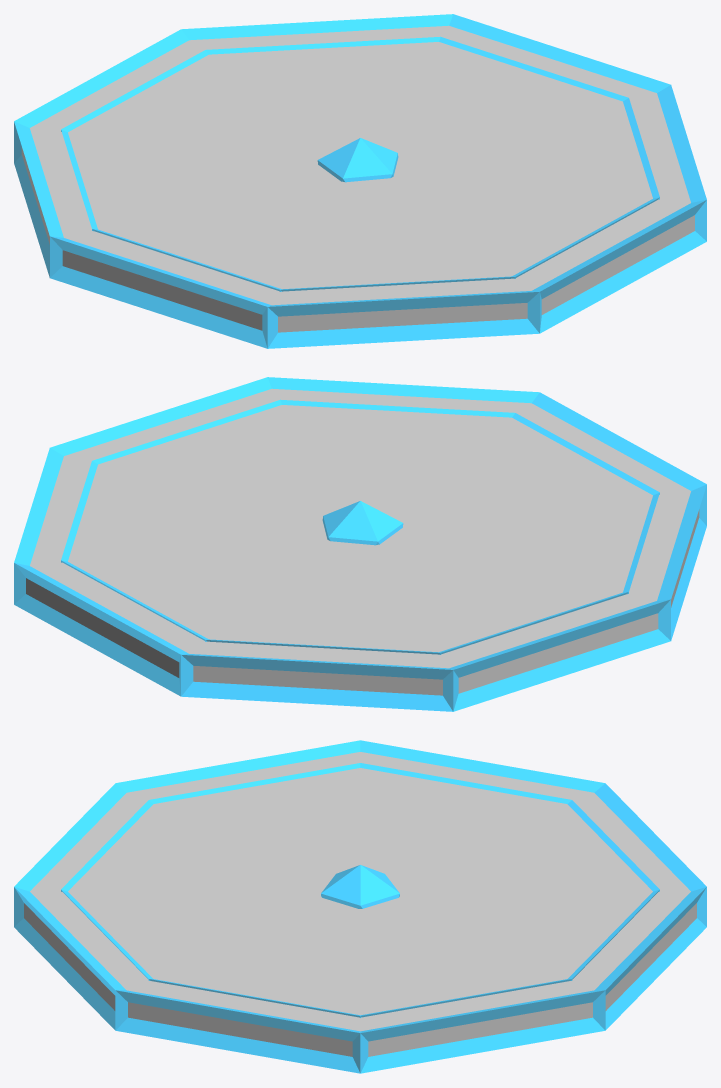
File: sacredCircle.glb
3 views of the same model, one above another, from view 1: azimuth 30°, elevation 25°; view 2: azimuth 150°, elevation 25°; view 3: azimuth 270°, elevation 25° (orthographic). The views are drawn at different scales.
Visible parts, largest first — view 1: Cylinder.001, Cylinder, Cylinder.002, Icosphere; view 2: Cylinder.001, Cylinder, Cylinder.002, Icosphere; view 3: Cylinder.001, Cylinder, Cylinder.002, Icosphere.
Part boxes in pixels (x1,y1,x2,y2): Cylinder.001: [21, 25, 694, 332]; Cylinder: [14, 14, 706, 348]; Cylinder.002: [61, 36, 659, 291]; Icosphere: [317, 138, 398, 182]; Cylinder.001: [26, 388, 699, 695]; Cylinder: [14, 377, 706, 711]; Cylinder.002: [61, 399, 659, 654]; Icosphere: [322, 501, 403, 545]; Cylinder.001: [24, 752, 696, 1056]; Cylinder: [14, 740, 706, 1073]; Cylinder.002: [61, 763, 659, 1017]; Icosphere: [321, 865, 399, 908].
Bounding box in the file's own units: 20.39 × 2.74 × 20.39.
